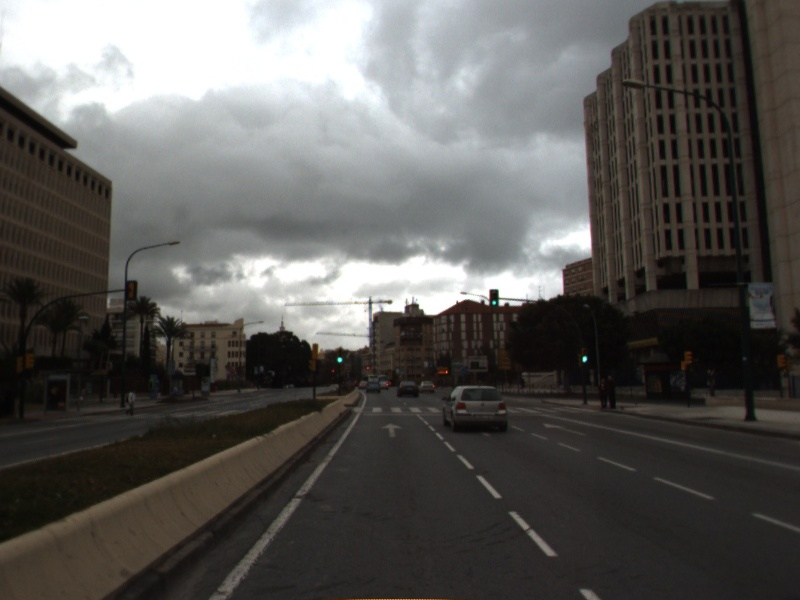STRAIGHT: (541, 420, 589, 438), (380, 420, 404, 439)
